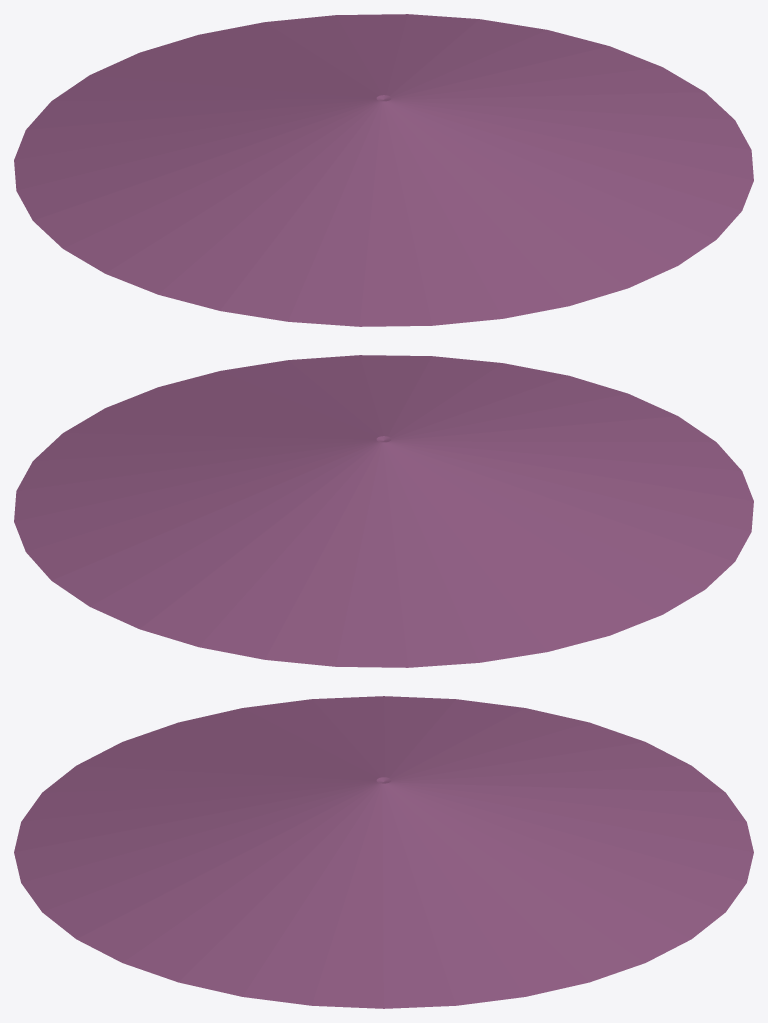
File: t_bumper.obj
The picture shows the model from 3 angles, top to bottom: view 1: azimuth 30°, elevation 25°; view 2: azimuth 150°, elevation 25°; view 3: azimuth 270°, elevation 25°; orthographic projection.
Parts seen in each view (by area): view 1: Circle.005; view 2: Circle.005; view 3: Circle.005.
Boxes of the visible parts, <box> form: Circle.005: <box>14,14,753,326</box>; Circle.005: <box>14,355,753,667</box>; Circle.005: <box>14,696,753,1008</box>.
Size of the model in its own units: 1.24 by 0.133 by 1.24.
Materials: 1 (1 with a texture image).
